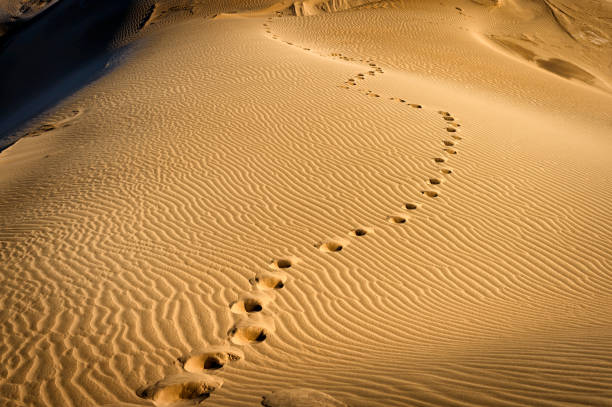human_footprint: (136, 373, 222, 405), (177, 346, 243, 372), (22, 108, 82, 136), (227, 316, 273, 345), (229, 290, 273, 313), (249, 270, 287, 290), (314, 239, 348, 252), (418, 186, 441, 204), (434, 102, 458, 119), (269, 257, 298, 269), (420, 174, 446, 186), (443, 143, 458, 161), (349, 227, 374, 237), (387, 214, 407, 223), (430, 158, 448, 168), (406, 104, 426, 113), (403, 203, 420, 212), (446, 124, 458, 134)
